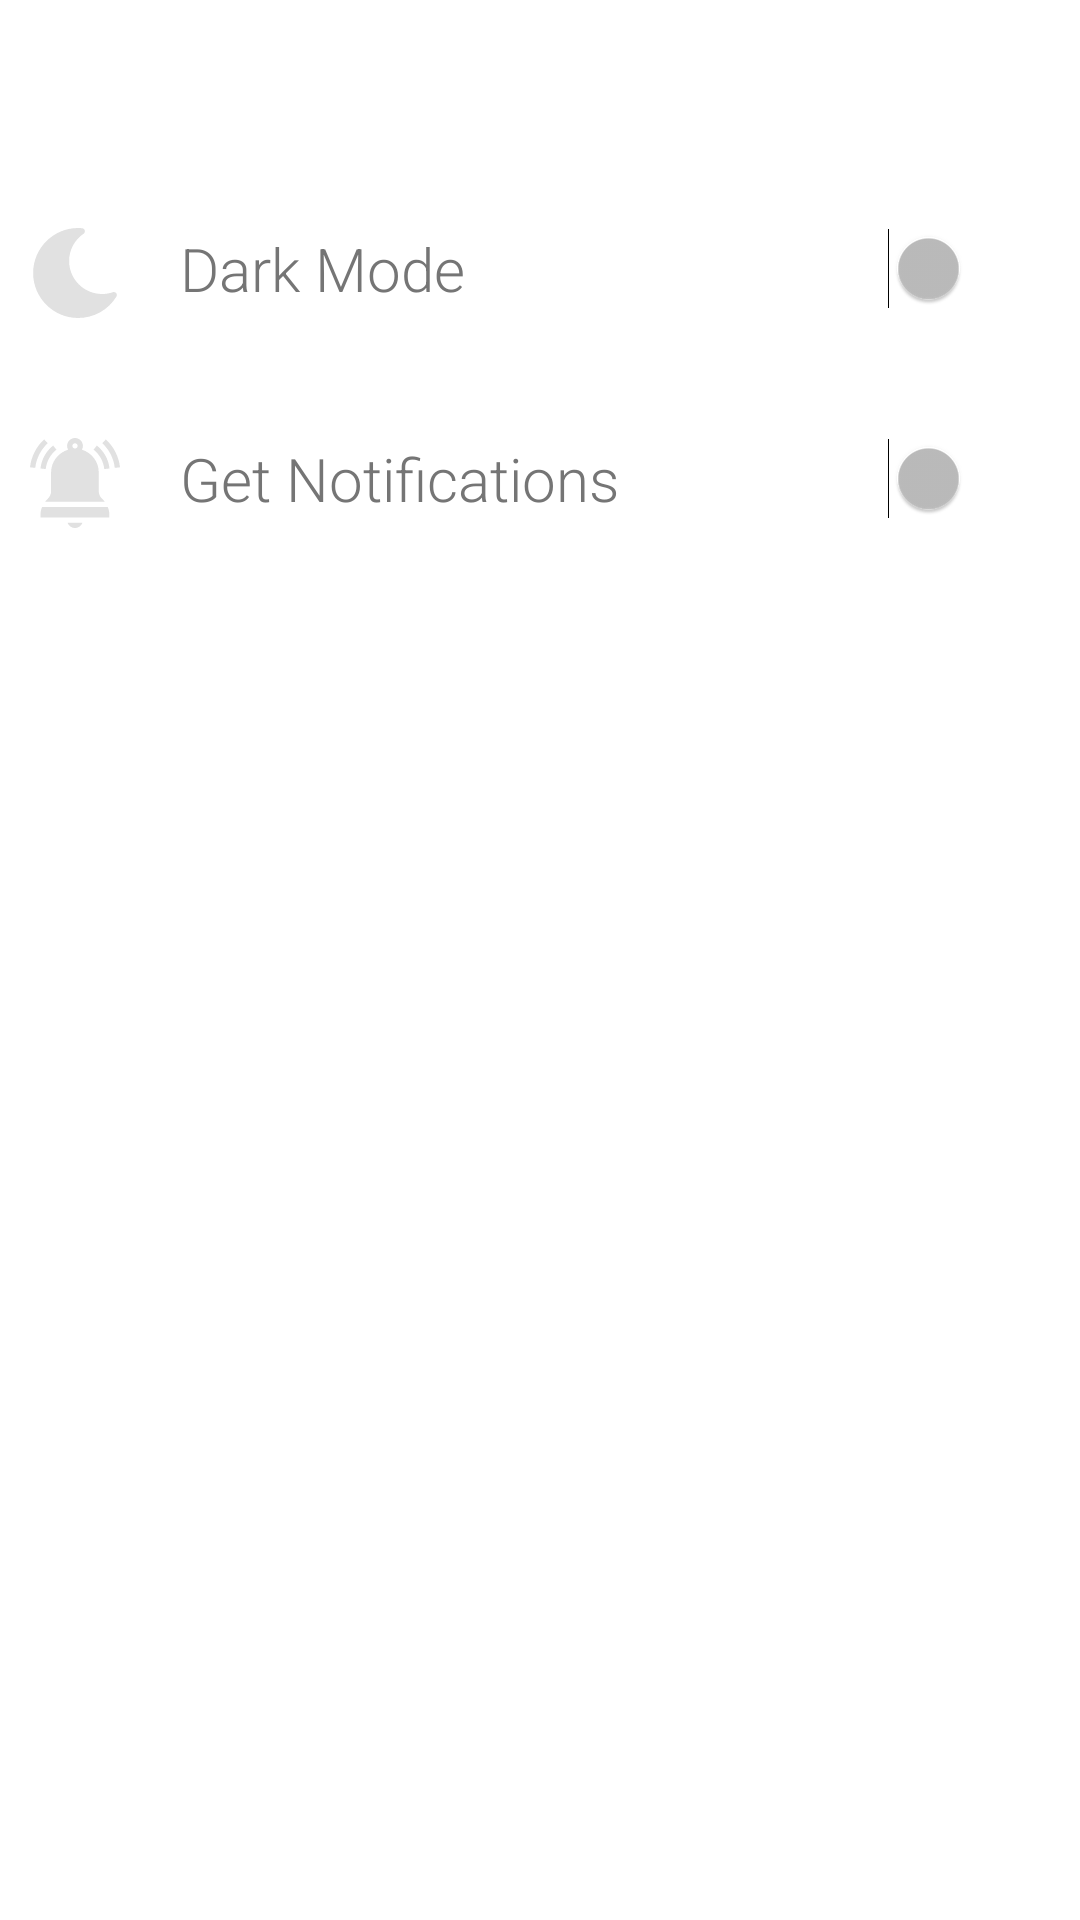

Locate icon controls on the screen. Image size 1080x1920, boxes as [x1=x1, y1=y1, x2=x2, y2=y2].
night: [x1=34, y1=228, x2=116, y2=318]
